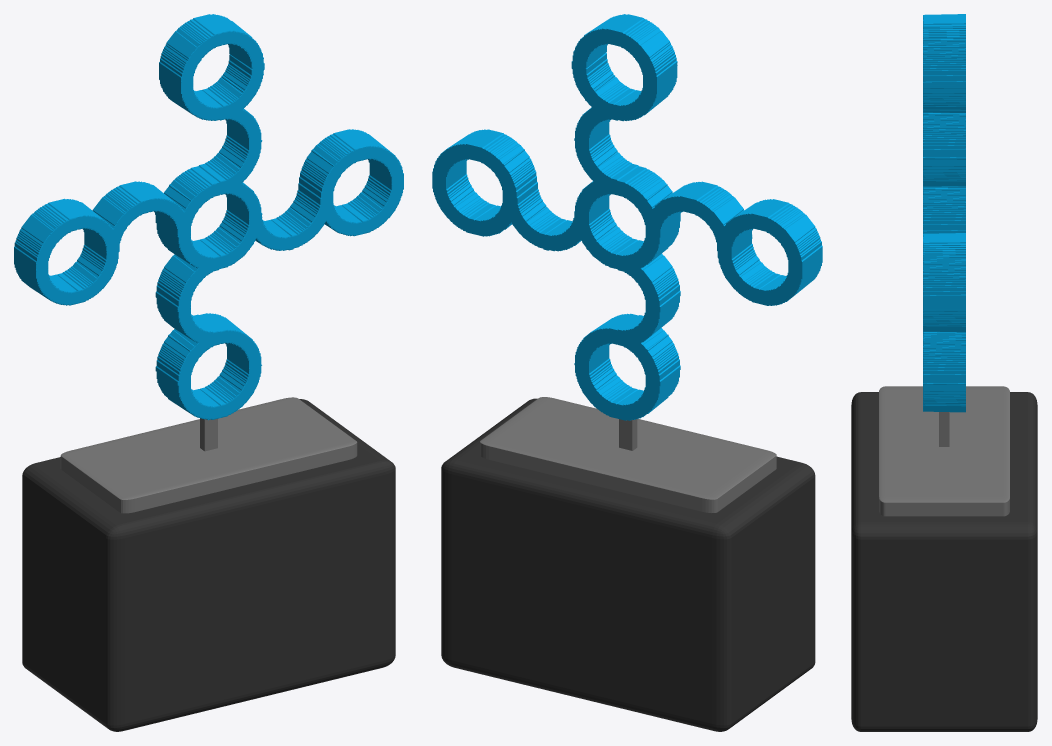
Rendered from premio.glb.
3 renders of one model, left to right at view 1: azimuth 30°, elevation 25°; view 2: azimuth 150°, elevation 25°; view 3: azimuth 270°, elevation 25°, orthographic.
Parts seen in each view (by area): view 1: Base, icono, Base2; view 2: Base, icono, Base2; view 3: Base, icono, Base2, columna.
Boxes of the visible parts, box(x1,y1,x2,y2) form: Base: box(22, 399, 395, 731); icono: box(14, 14, 403, 420); Base2: box(60, 397, 357, 513); Base: box(441, 398, 815, 731); icono: box(432, 14, 822, 420); Base2: box(480, 397, 776, 512); Base: box(851, 392, 1037, 731); icono: box(923, 14, 965, 412); Base2: box(879, 386, 1009, 516); columna: box(939, 412, 949, 446).
Bounding box in the file's own units: 2.98 × 4.96 × 1.29.
